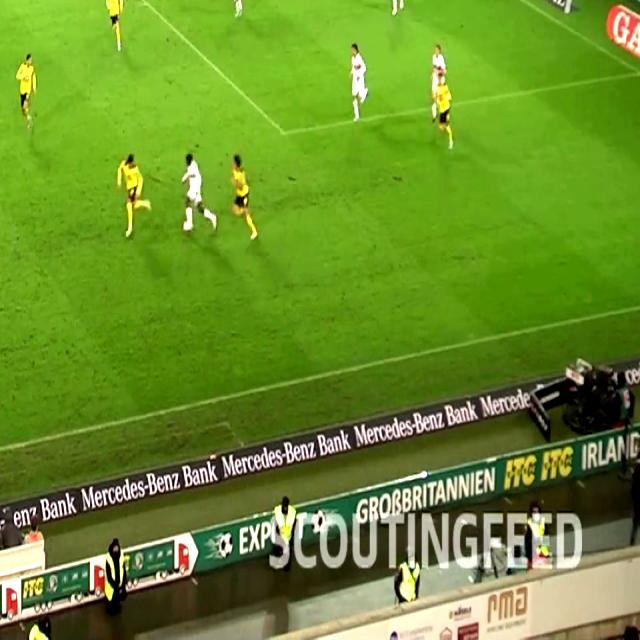soccer-player: (428, 41, 467, 156), (220, 153, 265, 247), (176, 149, 222, 238), (107, 153, 151, 246), (341, 37, 376, 125), (9, 48, 44, 132), (101, 0, 133, 53), (382, 0, 416, 19), (219, 0, 251, 20)
